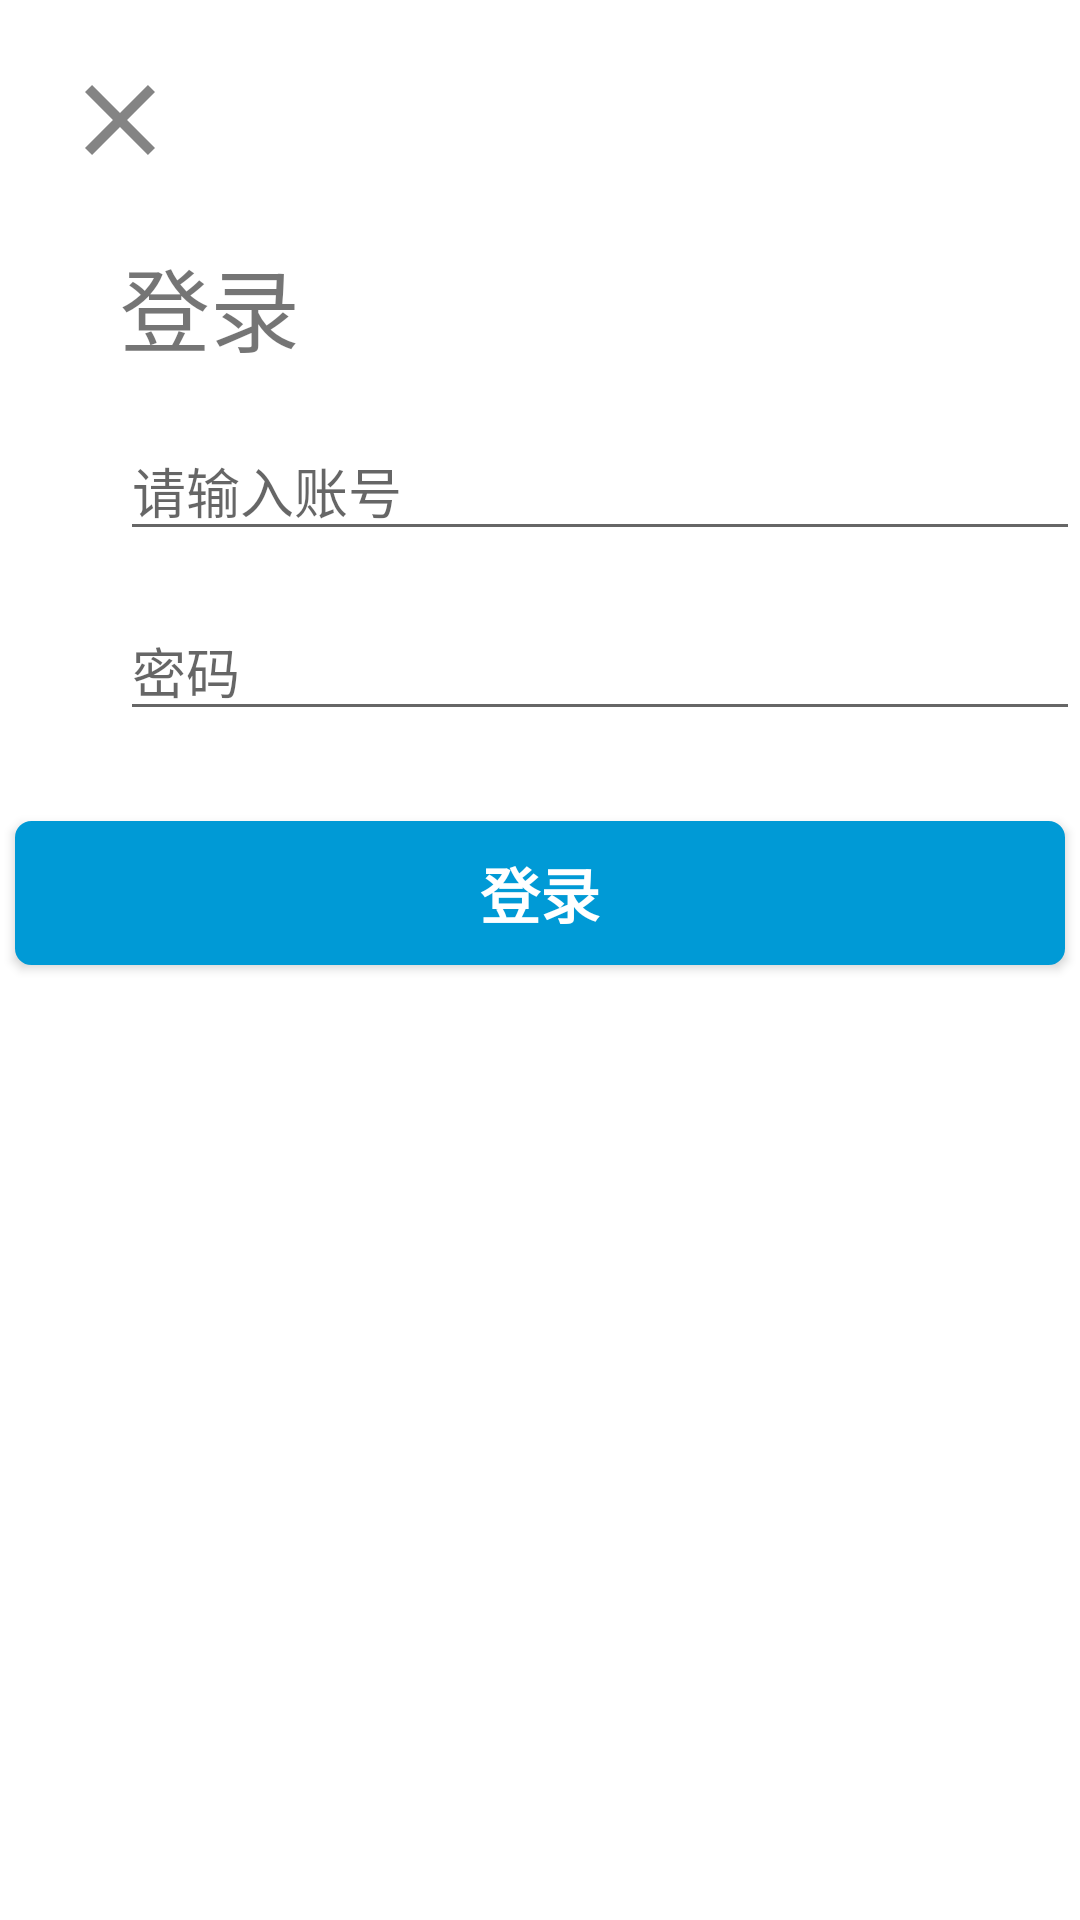

Named icons in this screenshot (1080 x 1920) and their bounding boxes, BBox(x1, y1, x2, y2):
close: BBox(85, 85, 155, 155)
